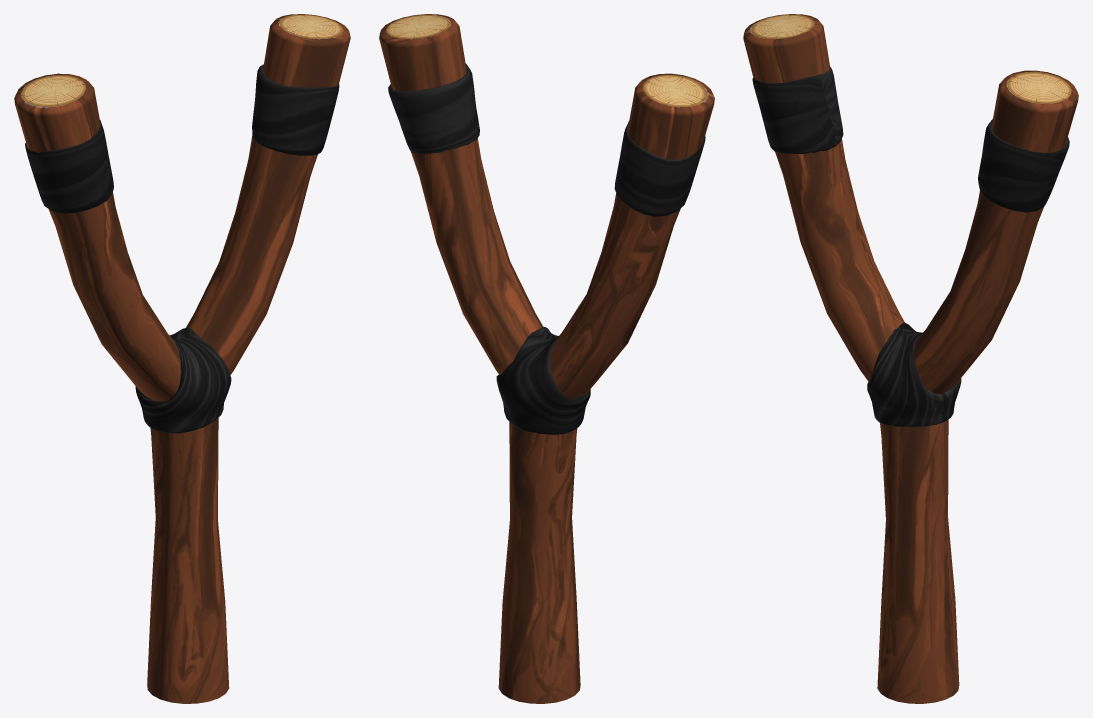
The model's file is slingshot.fbx.
The picture shows the model from 3 angles, left to right: view 1: azimuth 30°, elevation 25°; view 2: azimuth 150°, elevation 25°; view 3: azimuth 330°, elevation 25°; orthographic projection.
Visible parts, largest first — view 1: wood_r1, rubber_l1; view 2: wood_r1, rubber_l1; view 3: wood_r1, rubber_l1.
Boxes of the visible parts, <box> form: wood_r1: <box>14,14,350,703</box>; rubber_l1: <box>25,64,339,433</box>; wood_r1: <box>379,14,714,703</box>; rubber_l1: <box>388,64,705,434</box>; wood_r1: <box>743,14,1078,703</box>; rubber_l1: <box>752,67,1069,426</box>.
Bounding box in the file's own units: 4.72 × 8.79 × 1.16.
